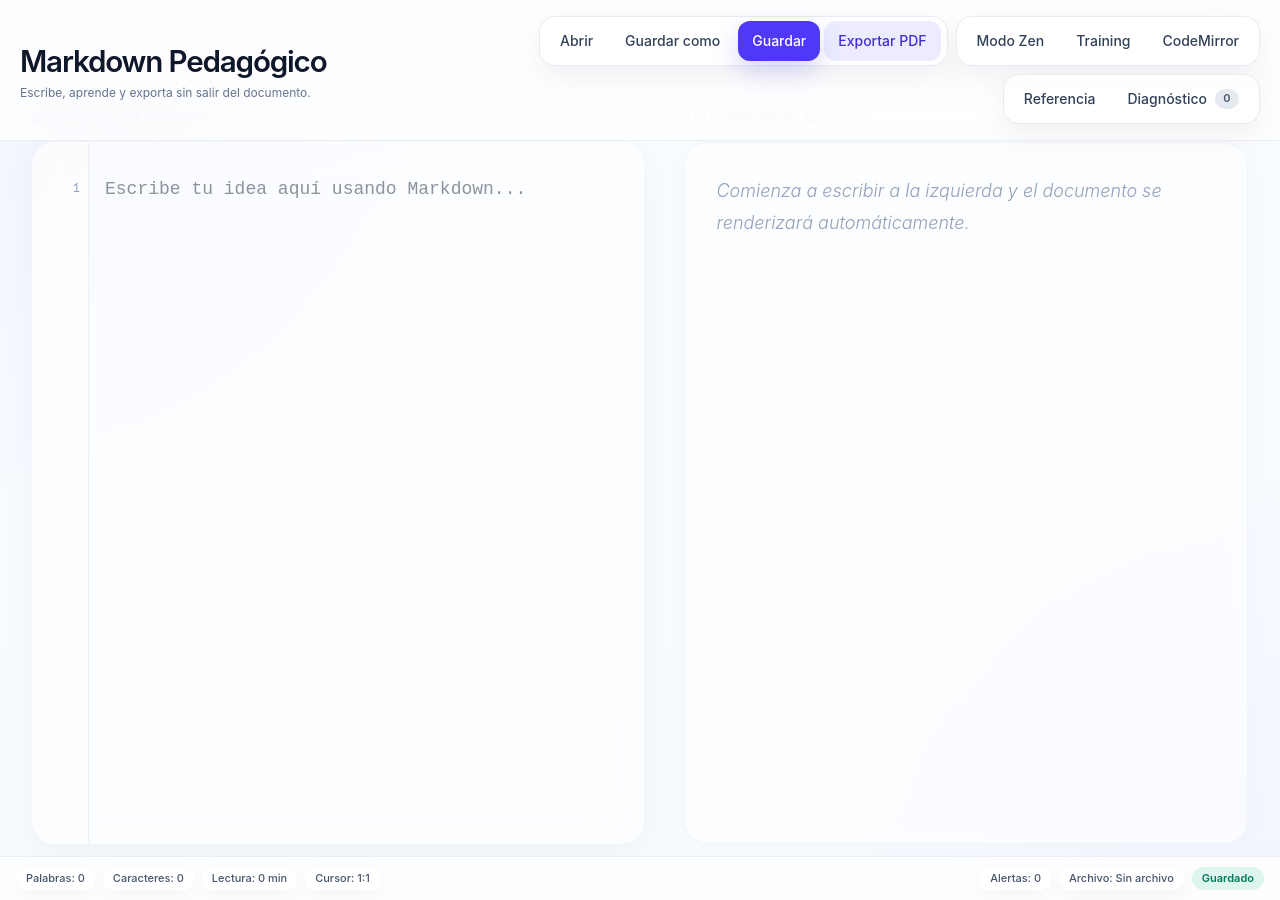
Test: Editor integration › persists the selected editor engine when toggling CodeMirror mode
Step 1. Click the button with aria-label "Activar editor CodeMirror" → {"x": 1201, "y": 41}, box left=1148, top=21, right=1253, bottom=61
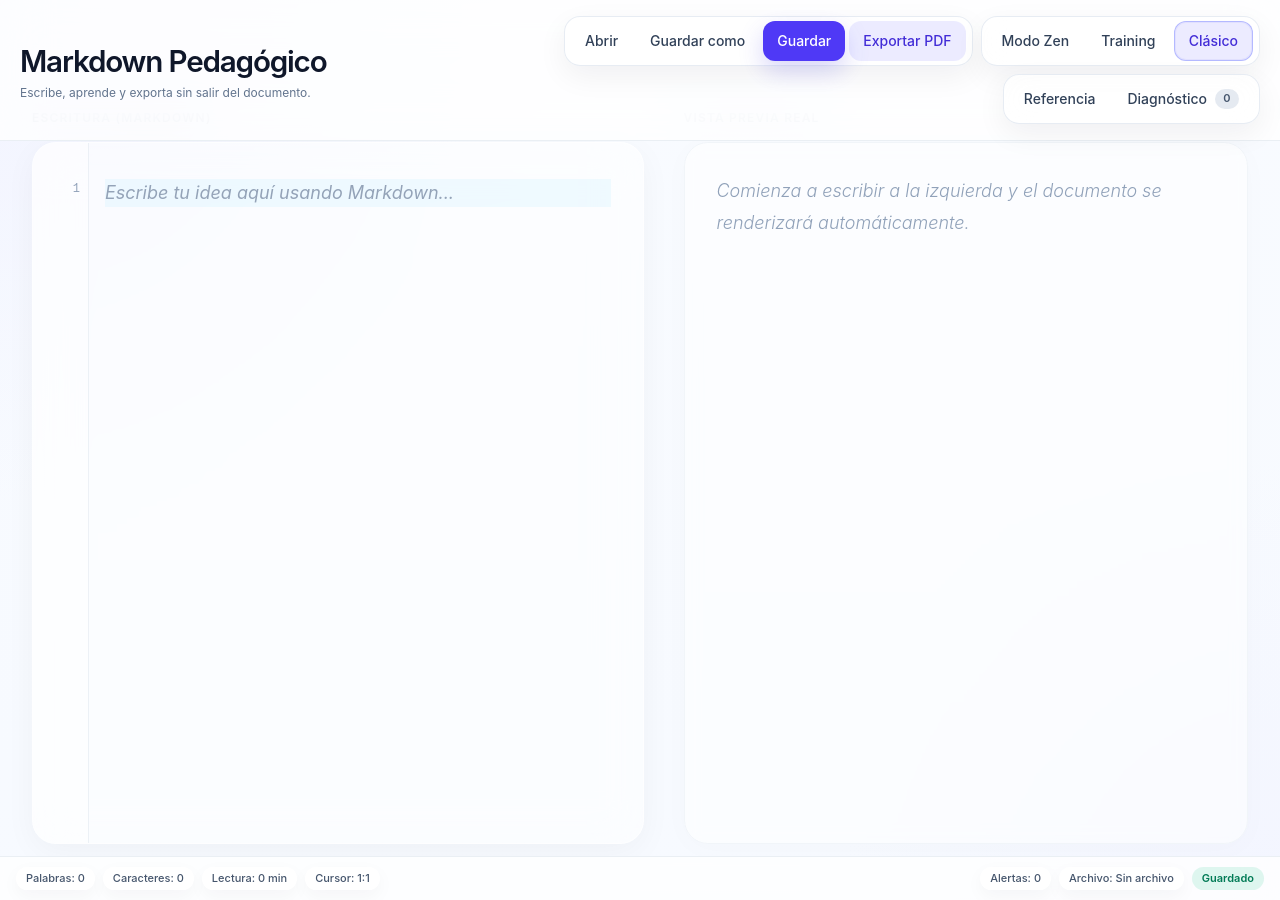
Expected: the button with aria-label "Volver al editor clásico" is shown, left=1174, top=21, right=1253, bottom=61
